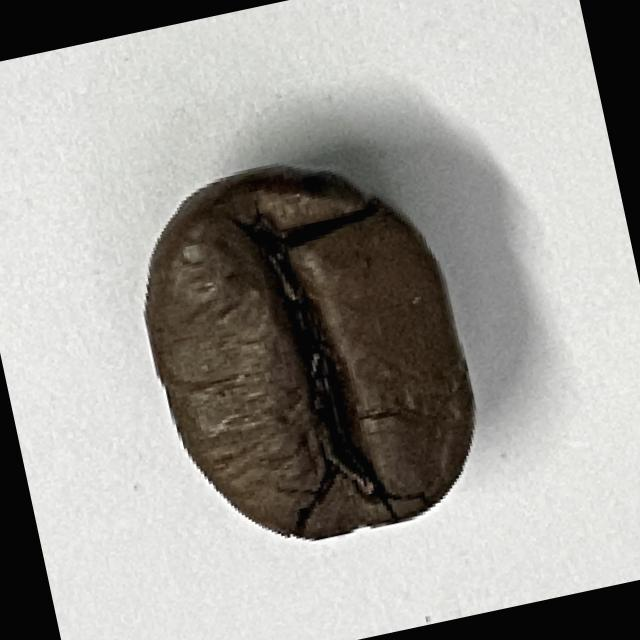bean: (113, 132, 499, 569)
